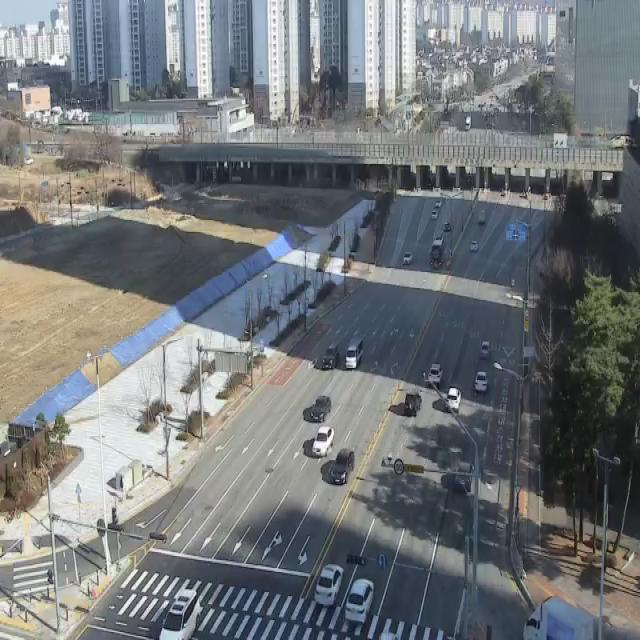Car: (158, 589, 200, 640), (344, 579, 374, 623), (314, 564, 344, 606), (330, 450, 354, 486), (454, 462, 476, 492), (313, 427, 334, 456), (310, 396, 332, 422), (322, 342, 341, 369), (404, 391, 422, 418), (444, 388, 462, 412), (428, 362, 444, 386), (474, 371, 489, 394), (481, 341, 491, 360), (403, 250, 415, 265), (470, 240, 480, 252), (443, 222, 452, 232), (431, 210, 439, 220), (435, 199, 442, 208)
Truck: (523, 595, 594, 640), (346, 337, 364, 371), (430, 234, 446, 271)
